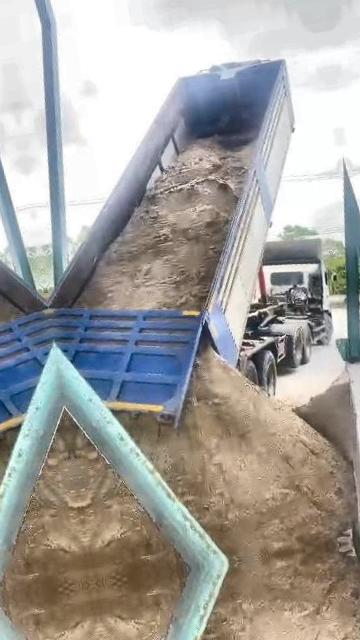sand: (118, 347, 355, 560), (76, 139, 252, 309), (67, 417, 182, 584), (294, 371, 356, 463)
